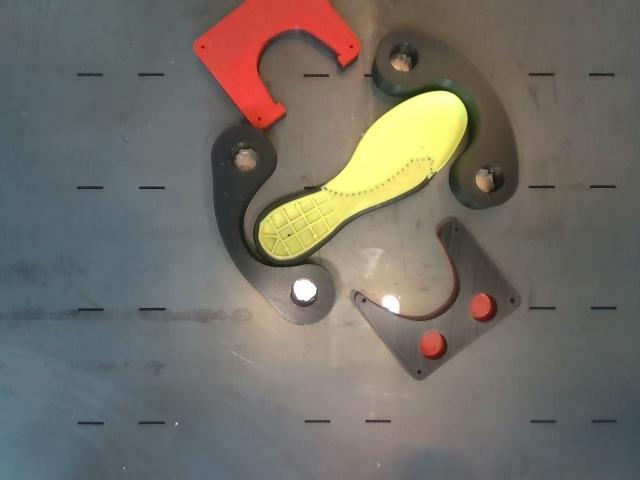shoes: (254, 91, 467, 264)
